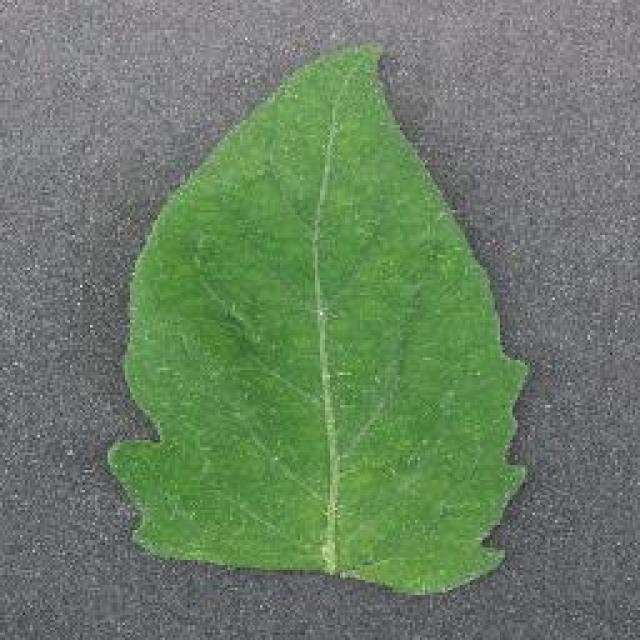Tomato_Healthy: (92, 34, 534, 604)
